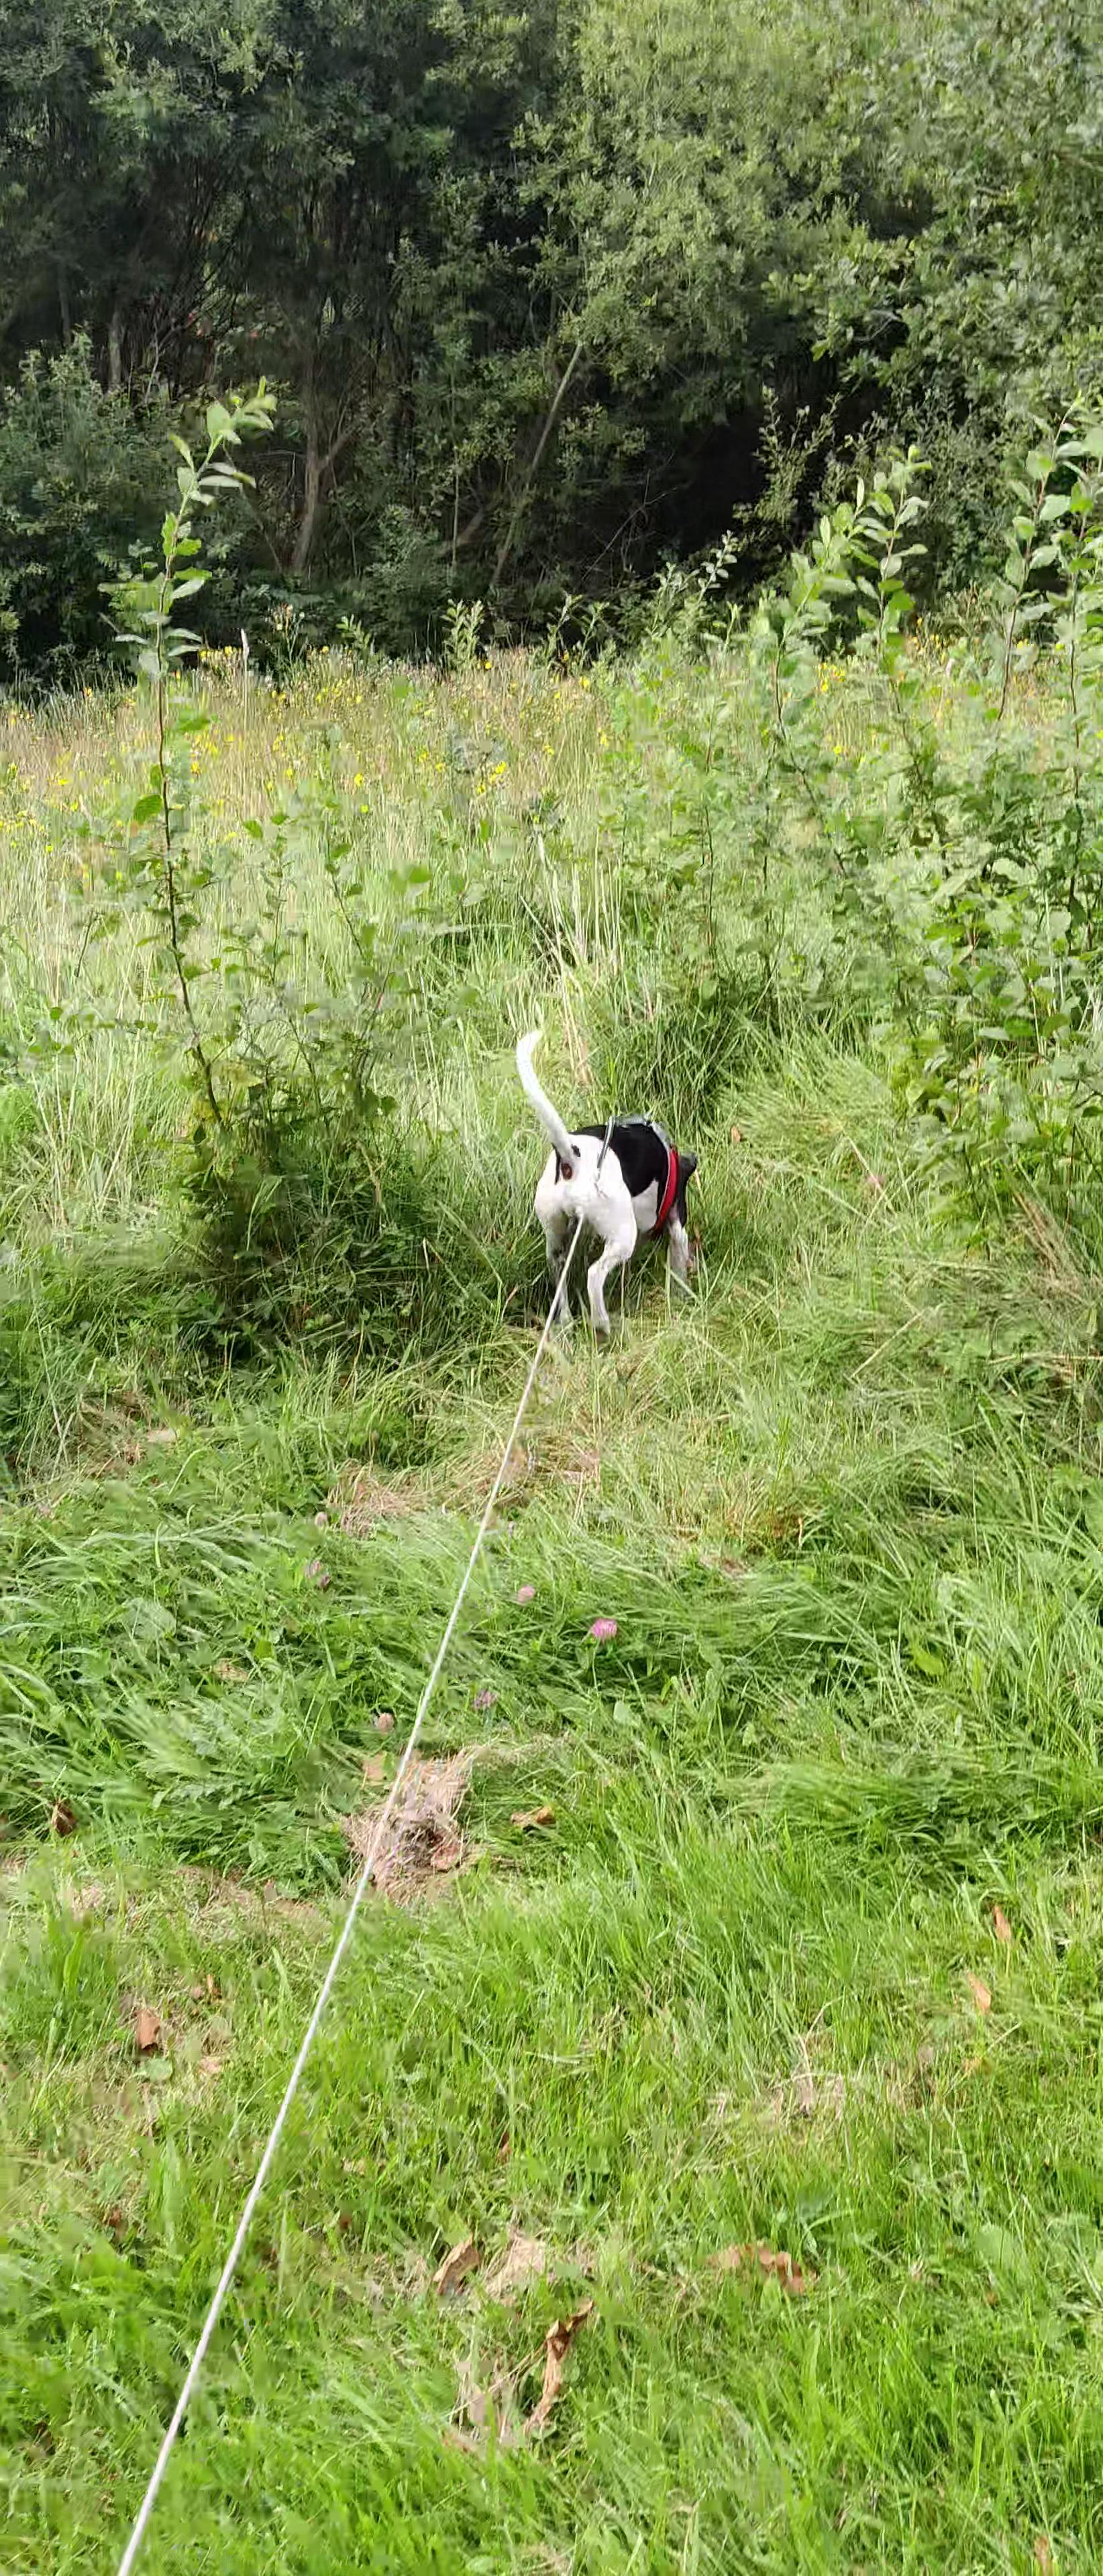Dog: (510, 1025, 702, 1336)
